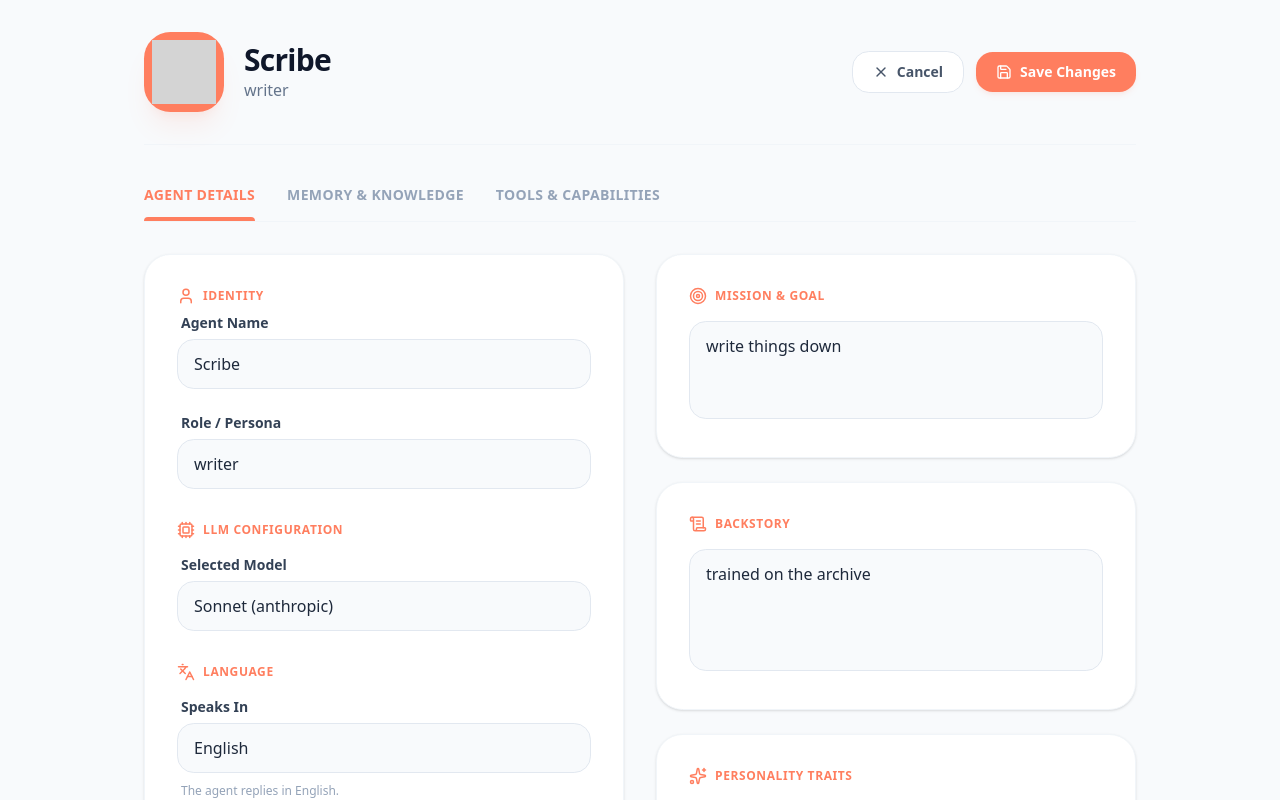
AgentEditForm › saving › confirms the save
Expected: the field showing "Scribe" is shown, [177, 339, 591, 389]
Click the button "Save Changes".
click(1056, 72)  # box [976, 52, 1136, 92]
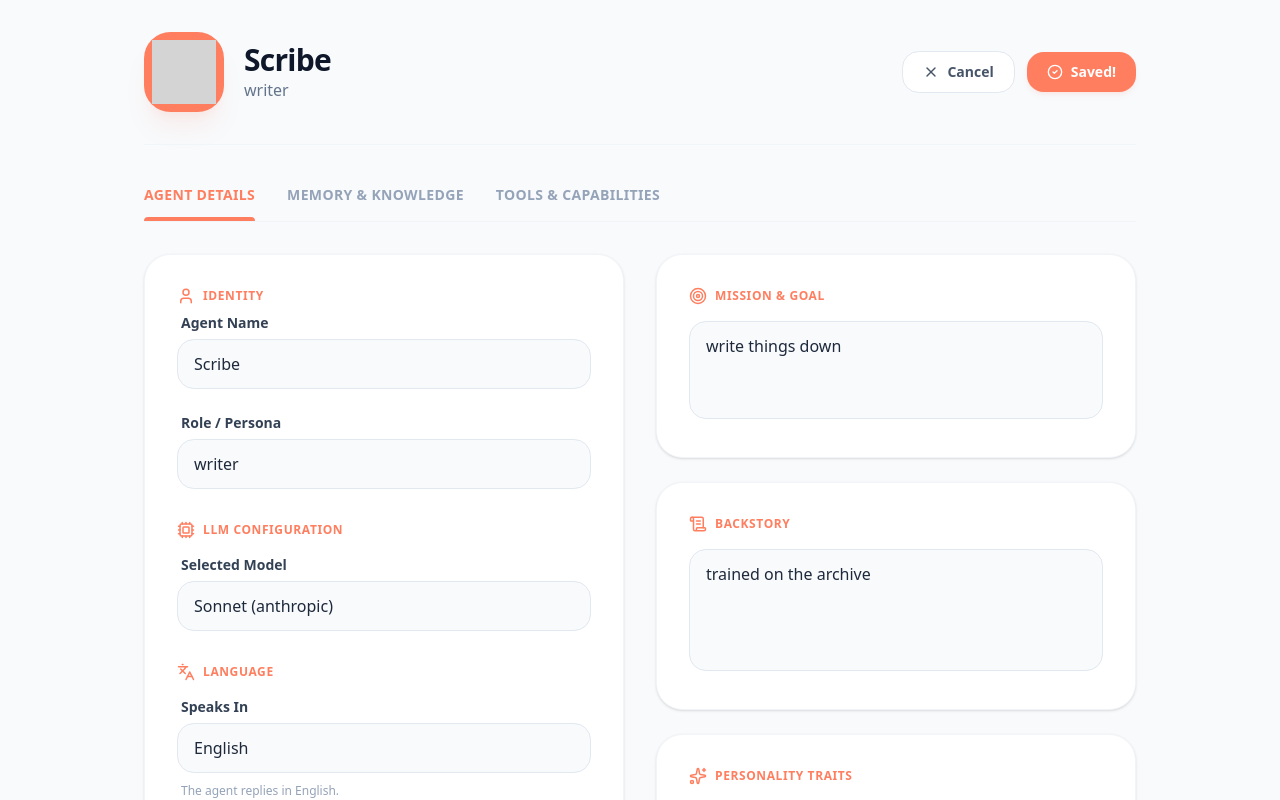
Expected: the button "Saved!" is shown, [1027, 52, 1136, 92]
